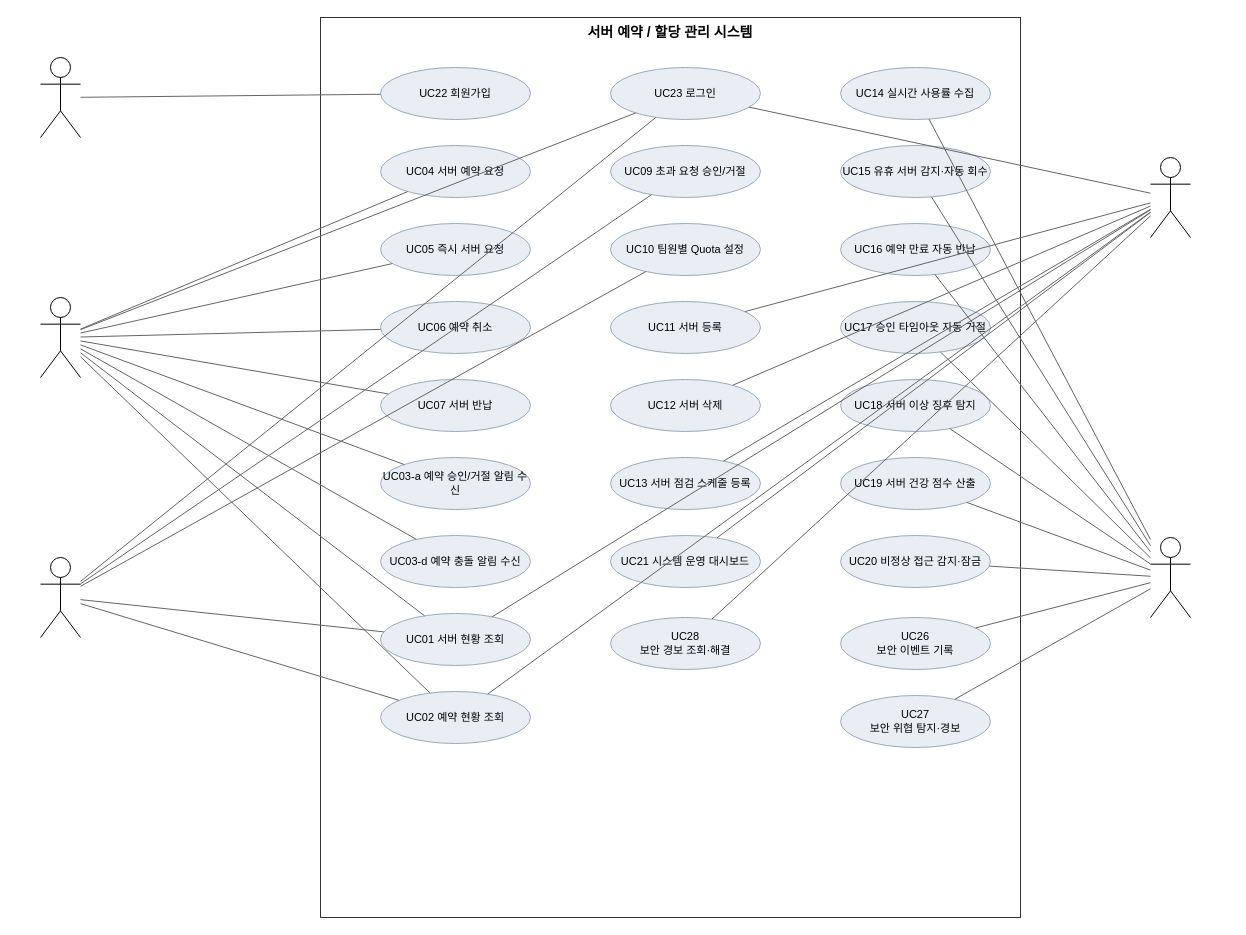
Some shapes in this 1246 by 935 pixel diagram are drawn without their labels. The centre of each missing label's shape, as x and y in pixels:
모니터링 시스템 (SYS): the point at 1170,577
미인증 사용자: the point at 60,97
서버 관리자 (ADM): the point at 1170,197
팀 관리자 (MGR): the point at 60,597
학생 (STU): the point at 60,337
